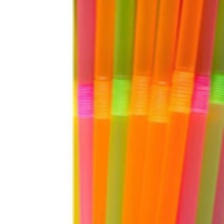drinking_straw: (73, 0, 97, 224)
